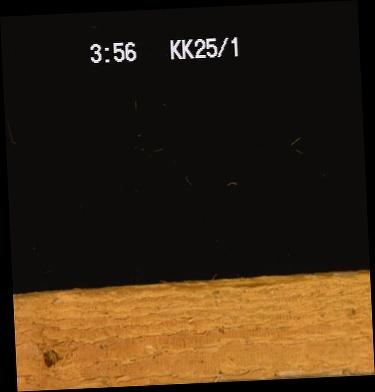dry_knot: (40, 347, 60, 367)
